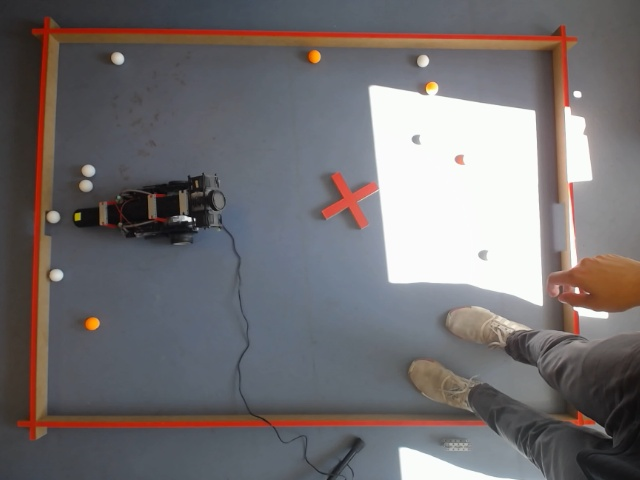orange: (564, 254, 640, 313), (407, 358, 446, 401), (81, 315, 103, 333), (306, 49, 322, 66), (424, 80, 439, 96)
robot: (96, 171, 225, 246)
white: (47, 268, 66, 283), (109, 50, 125, 66), (415, 53, 430, 69), (80, 163, 96, 178), (45, 209, 60, 224), (78, 178, 93, 192), (571, 89, 583, 100), (73, 211, 81, 222)
